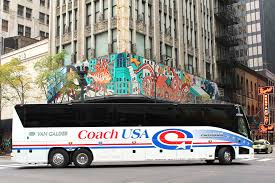bus: (10, 94, 255, 170)
